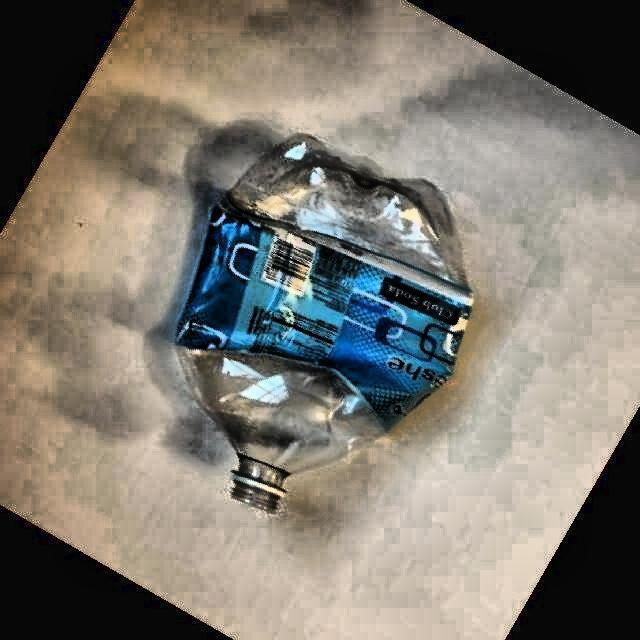plastic: (176, 135, 472, 509)
